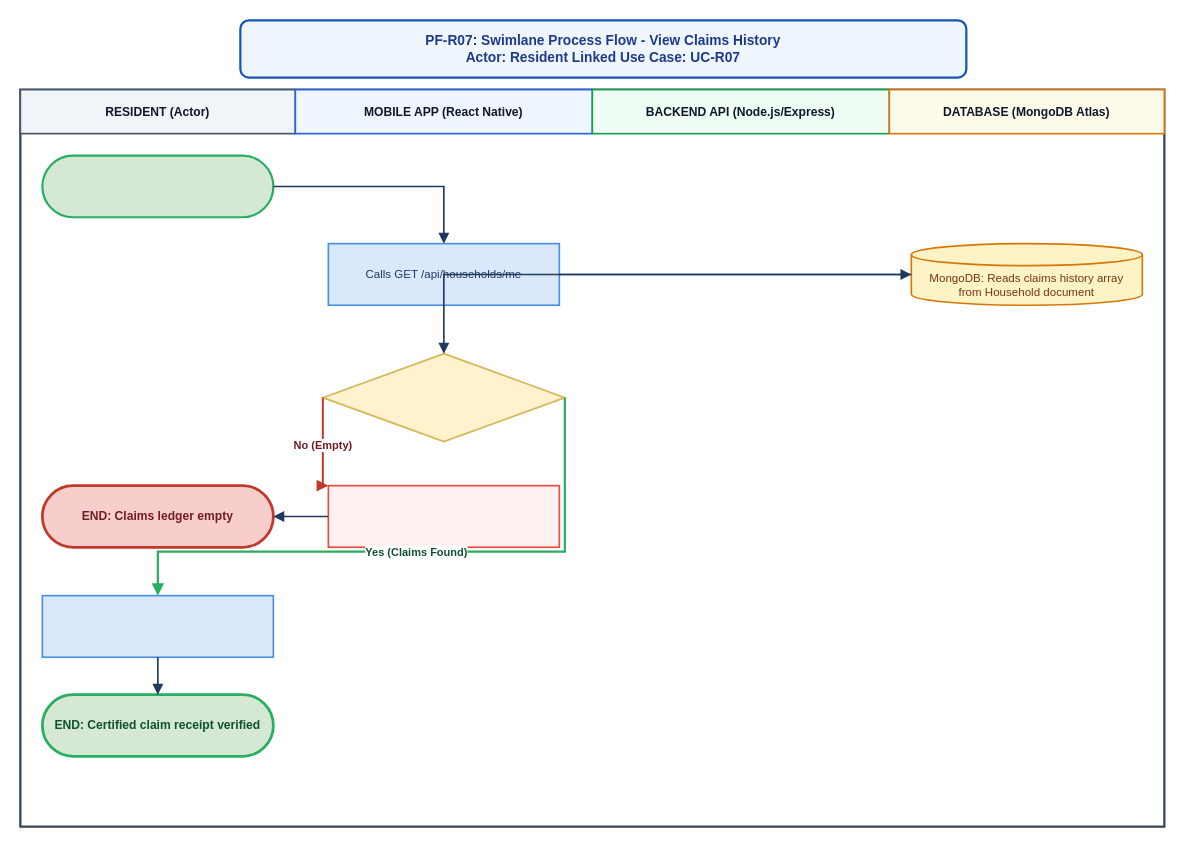
The diagram is 1184 pixels wide and 846 high, and some of its shapes have lost their labels. Here are the shapes that lost their labels. From the top down, the centre of each, then its label:
point 157,186: START: Opens Claims History
point 443,397: Historical claims array contains records?
point 443,516: Display "Walang Nakaraang Claim" empty state illustration
point 157,626: Renders relief claims list with dates, package items, & scanning officer
